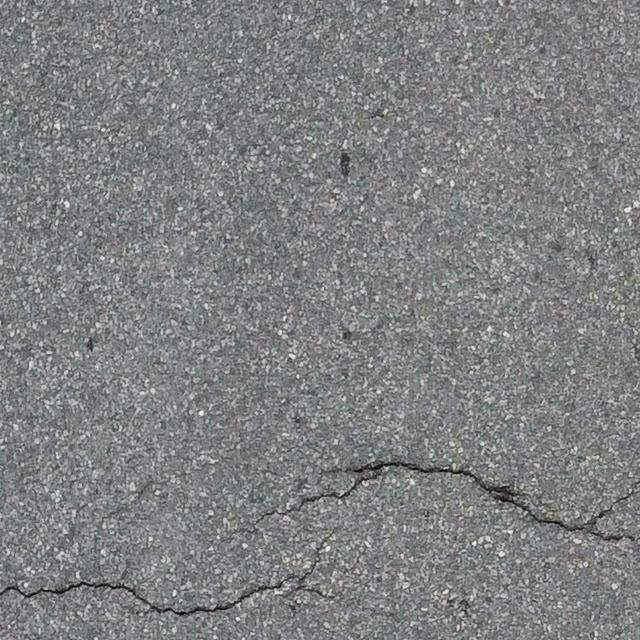TransverseCrack: (1, 524, 343, 617), (255, 461, 640, 542)
